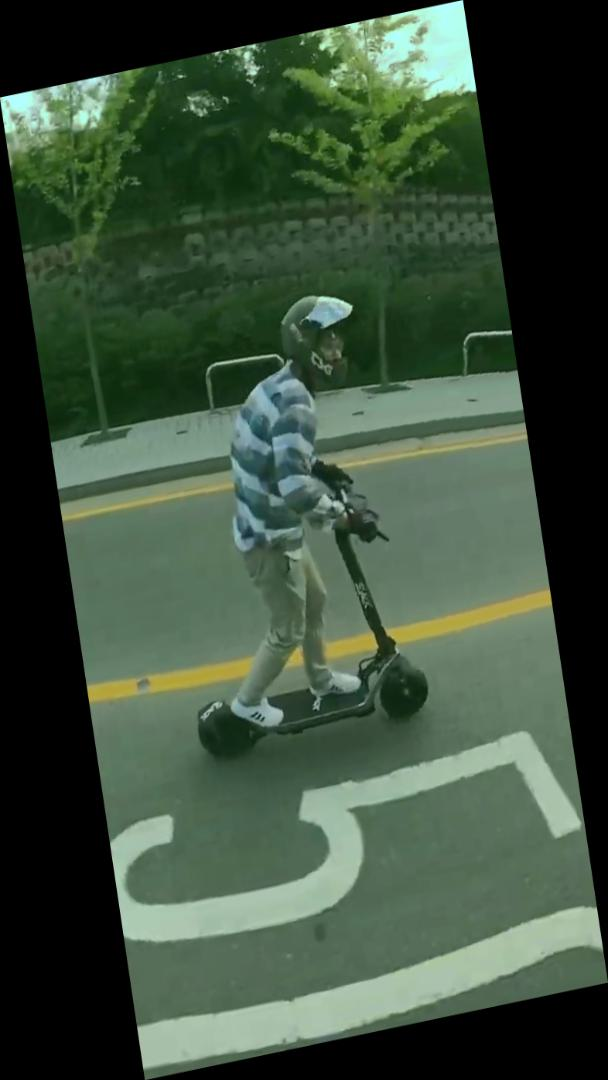helmet: (135, 279, 439, 770)
